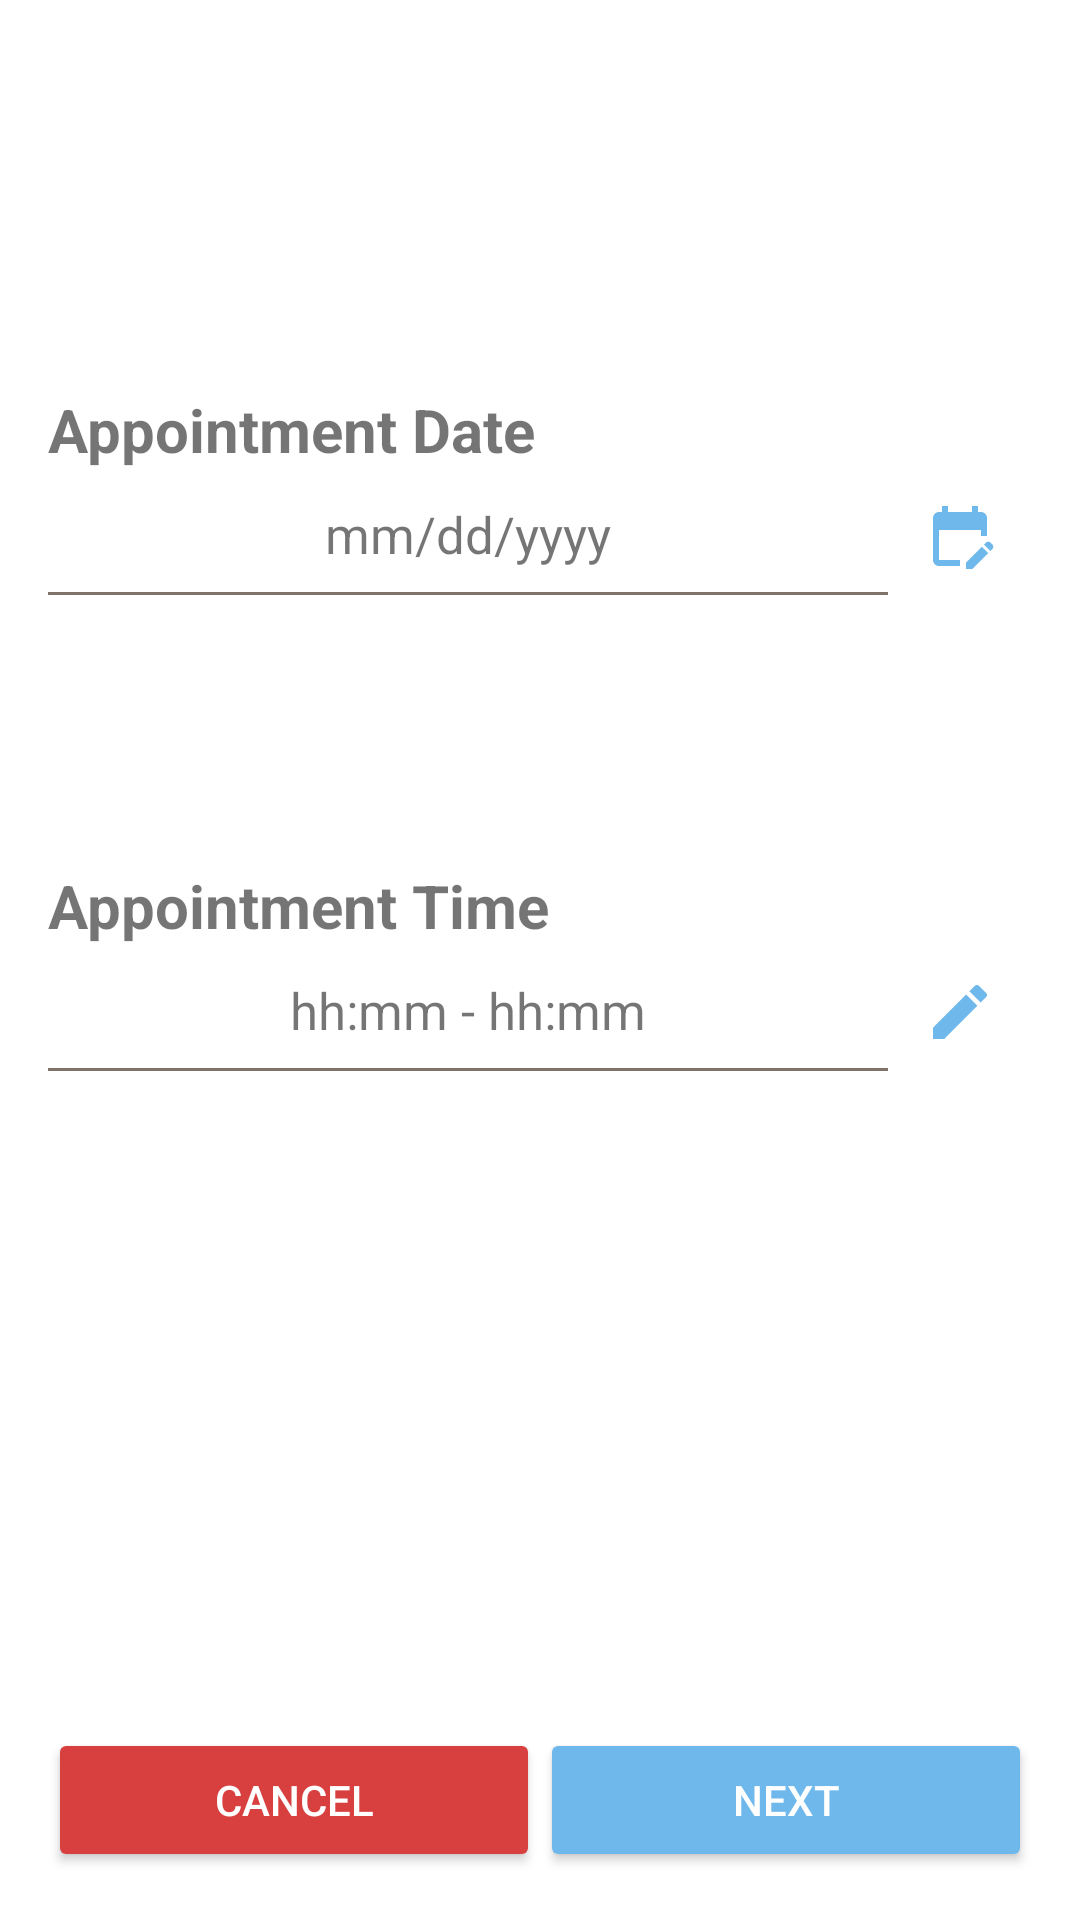

Icons on this 1080px×1920px Android screen, each with the point to tap as point (x, y):
edit: point (960, 1012)
edit calendar: point (963, 537)
